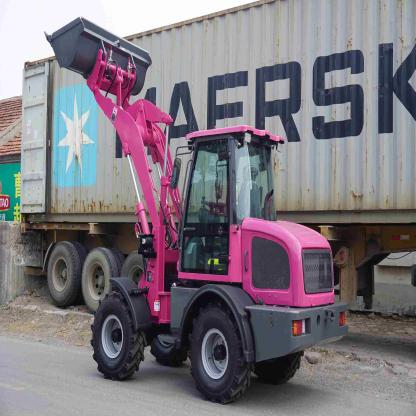bull_dozer/loader/grader: (46, 14, 356, 416)
